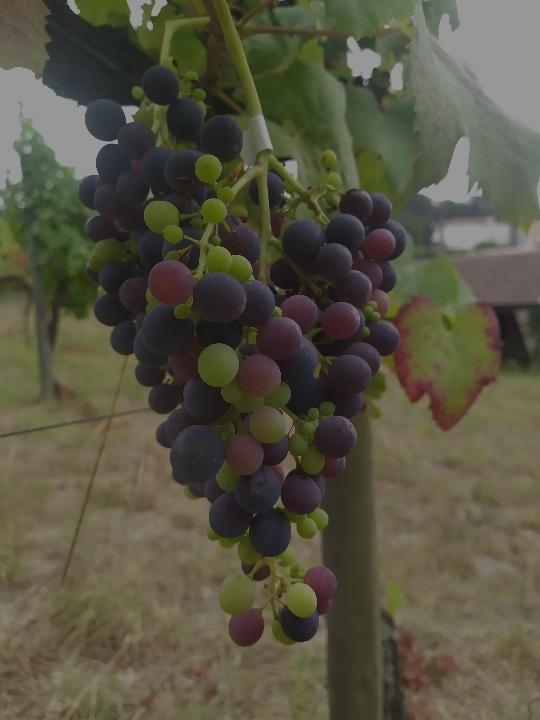grape: (75, 53, 410, 649)
